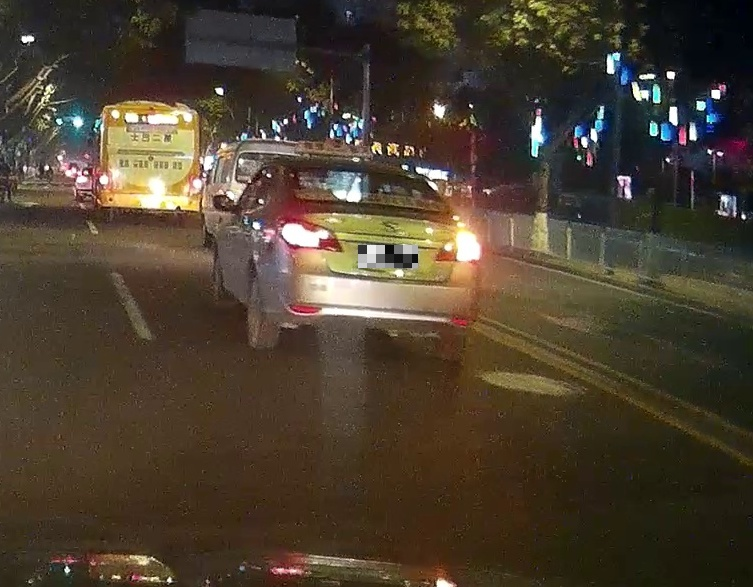L_light: (279, 217, 345, 253), (99, 173, 109, 185)
R_light: (435, 229, 481, 262), (192, 178, 202, 189)
T_light: (357, 163, 382, 172), (145, 109, 158, 115)
night-no: (279, 155, 481, 361), (98, 103, 202, 223)
plate_1: (358, 245, 418, 268)
